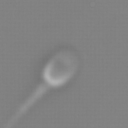normal: (2, 82, 48, 127)
